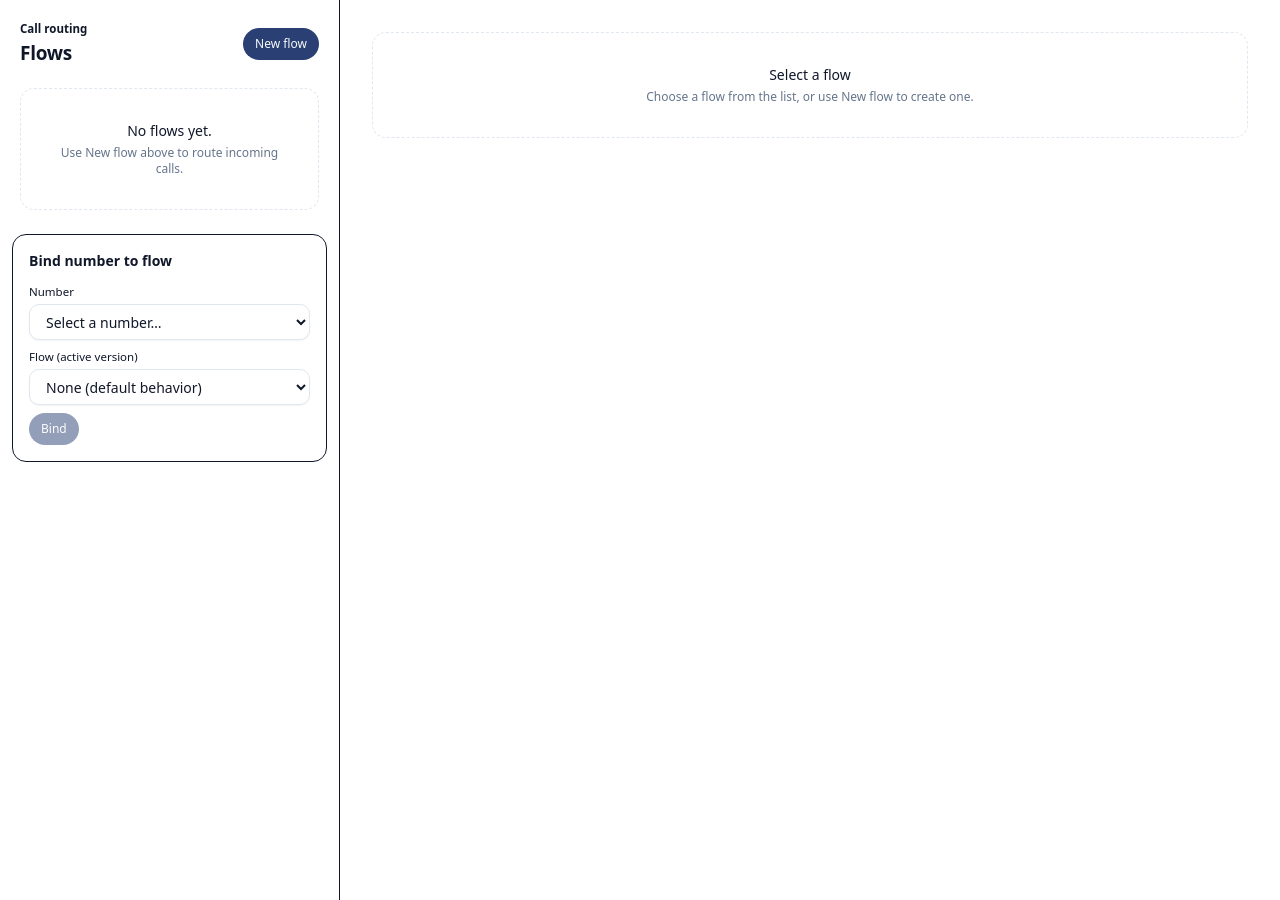
FlowsPage › renders a validation error inline on the offending node
Step 1. Click the button "New flow" → {"x": 281, "y": 44}, box left=243, top=28, right=319, bottom=60
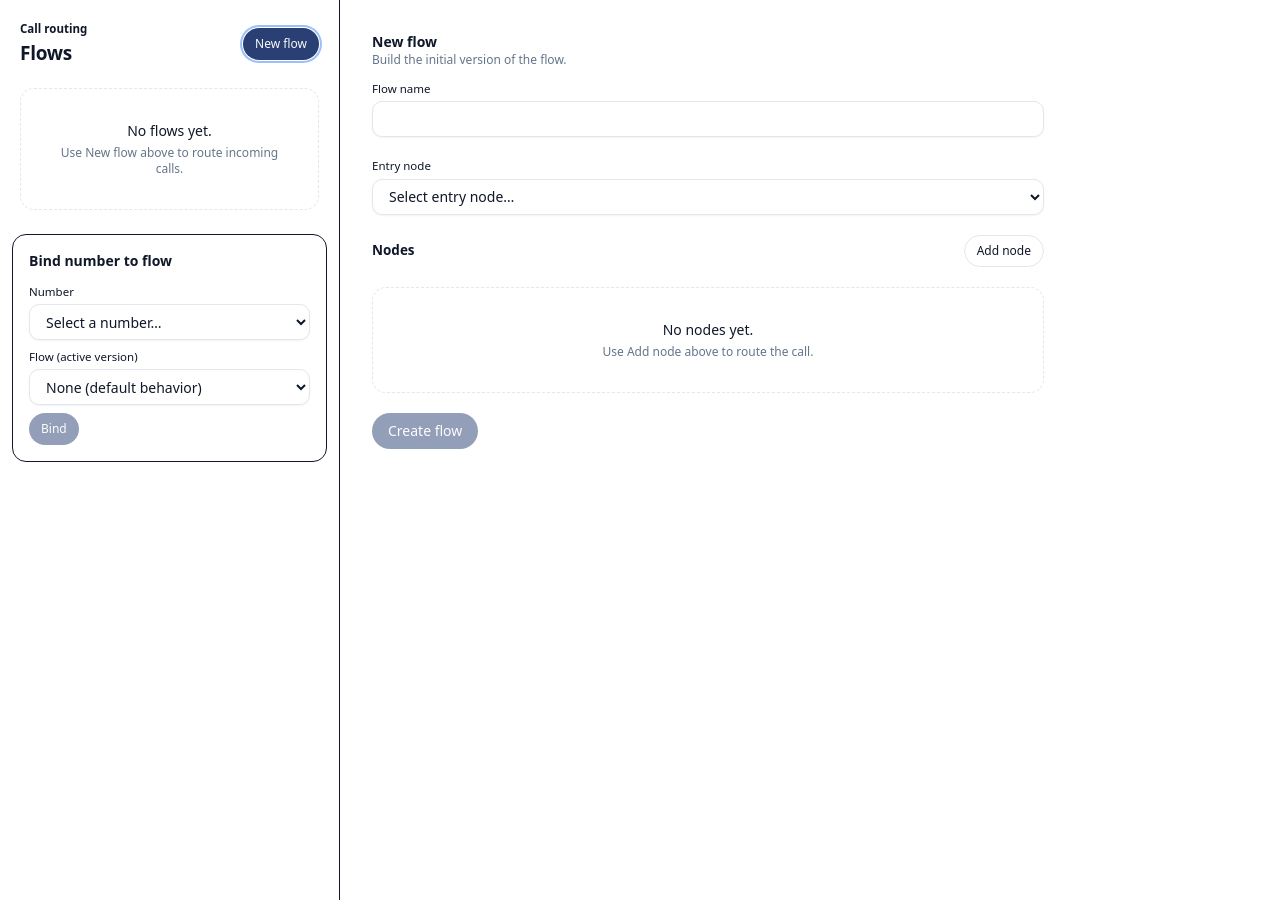
Step 2. Type "Broken flow" into the field labelled "Flow name" → {"x": 708, "y": 119}, box left=372, top=101, right=1044, bottom=137
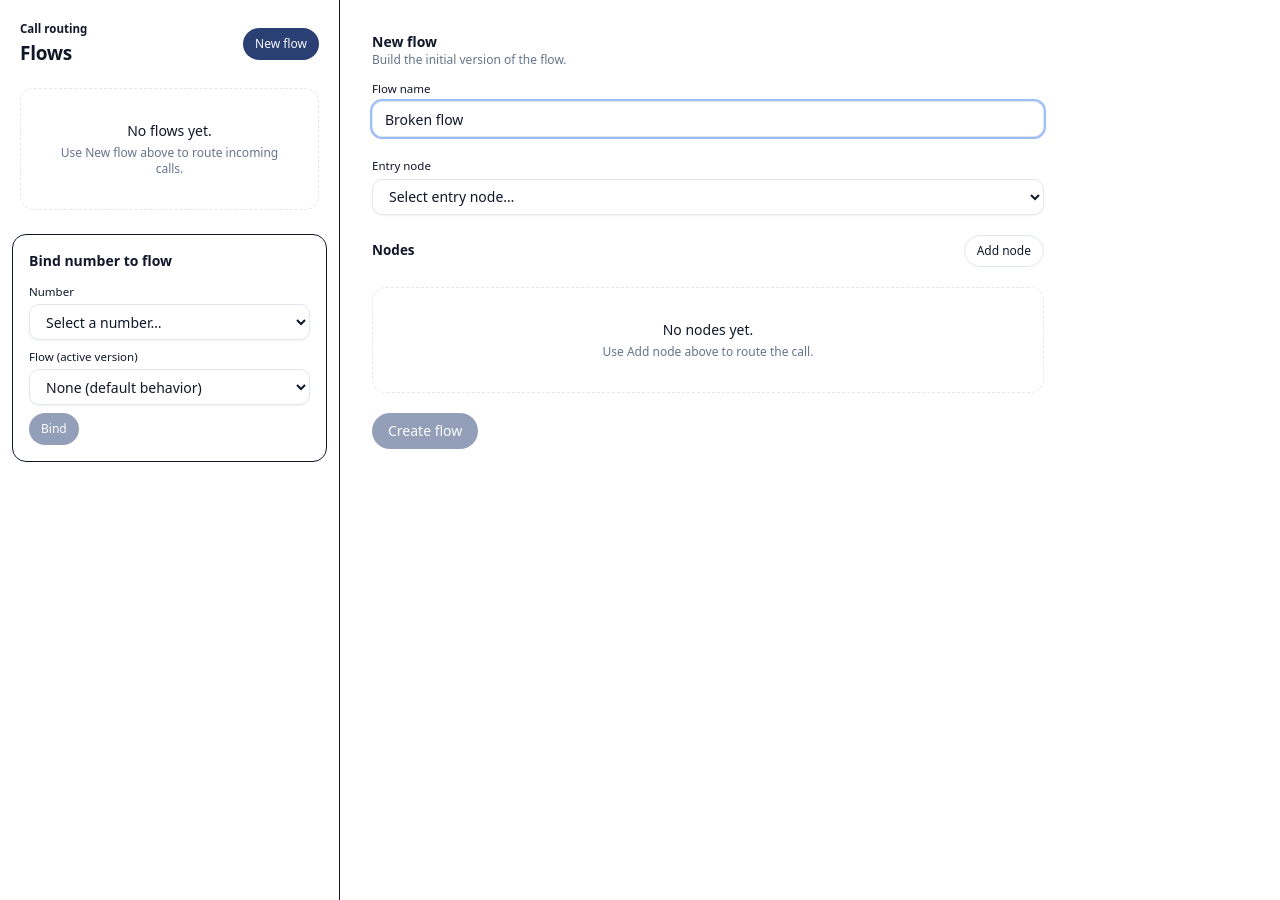
Step 3. Click the button "Add node" → {"x": 1004, "y": 250}, box left=964, top=234, right=1044, bottom=266
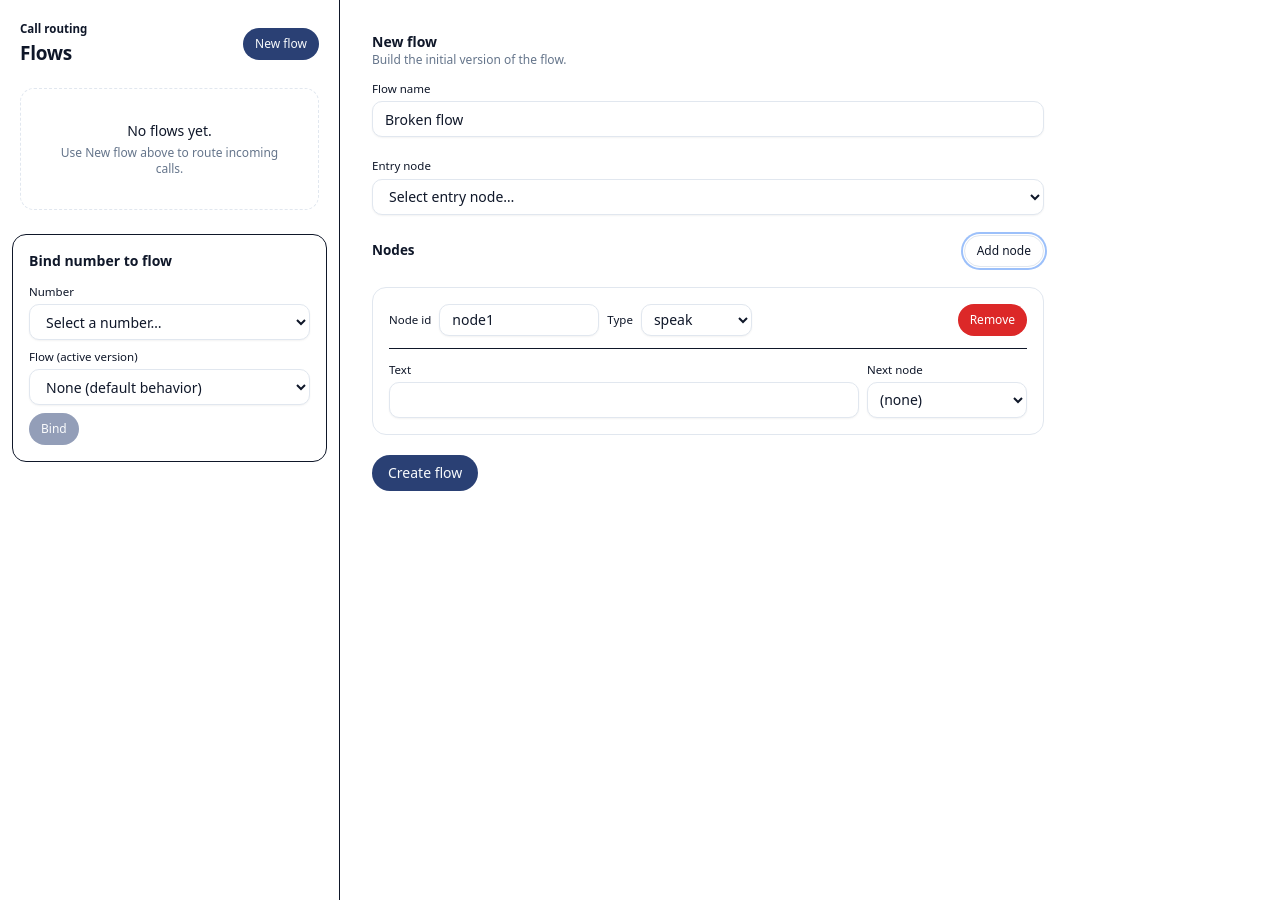
Step 4. Select "menu" in the dropdown named "Node type for node1" → {"x": 696, "y": 320}, box left=641, top=304, right=752, bottom=336
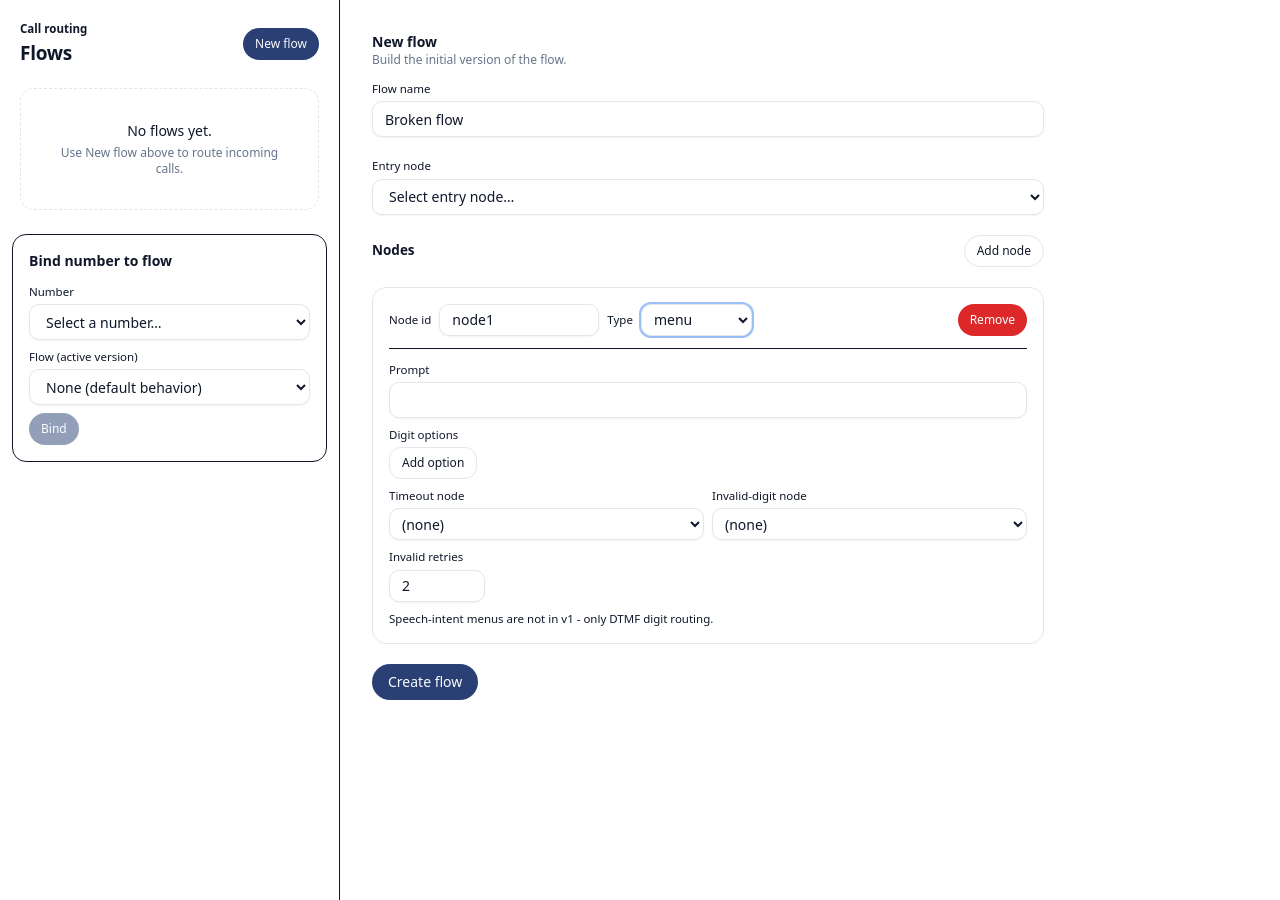
Step 5. Click the button "Create flow" → {"x": 425, "y": 682}, box left=372, top=664, right=478, bottom=700
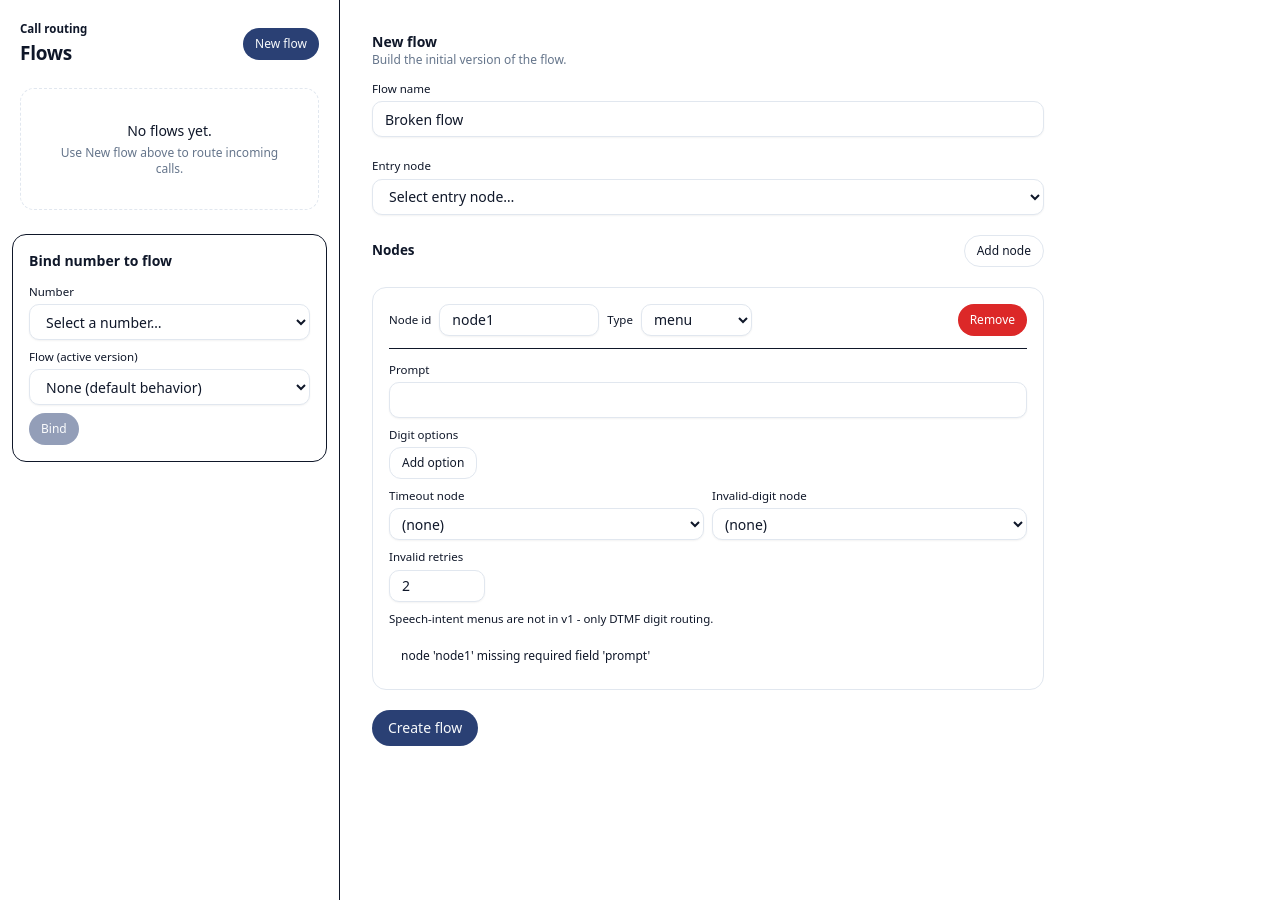
expect the list item "node 'node1' missing required field 'prompt'" is shown: met, box left=401, top=647, right=650, bottom=664
